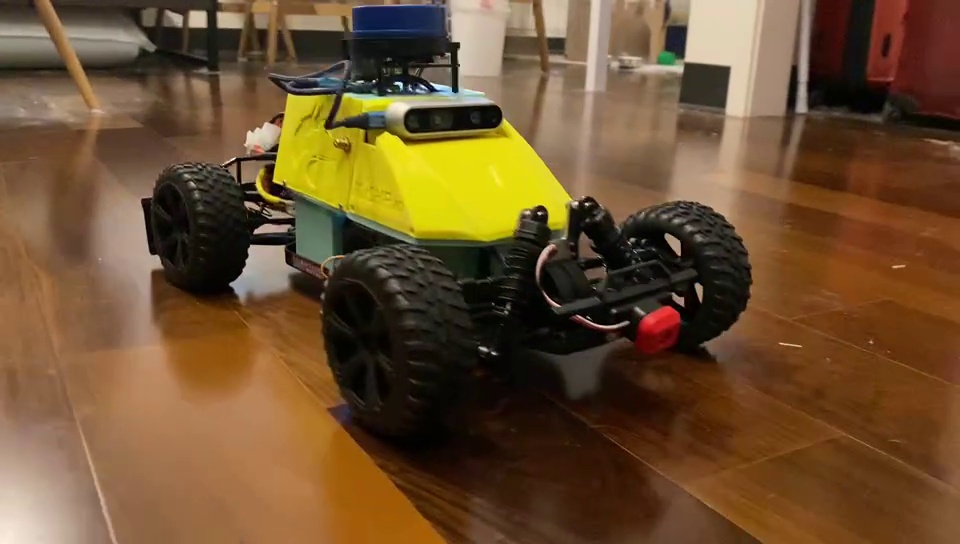mushr_car: (142, 3, 753, 451)
